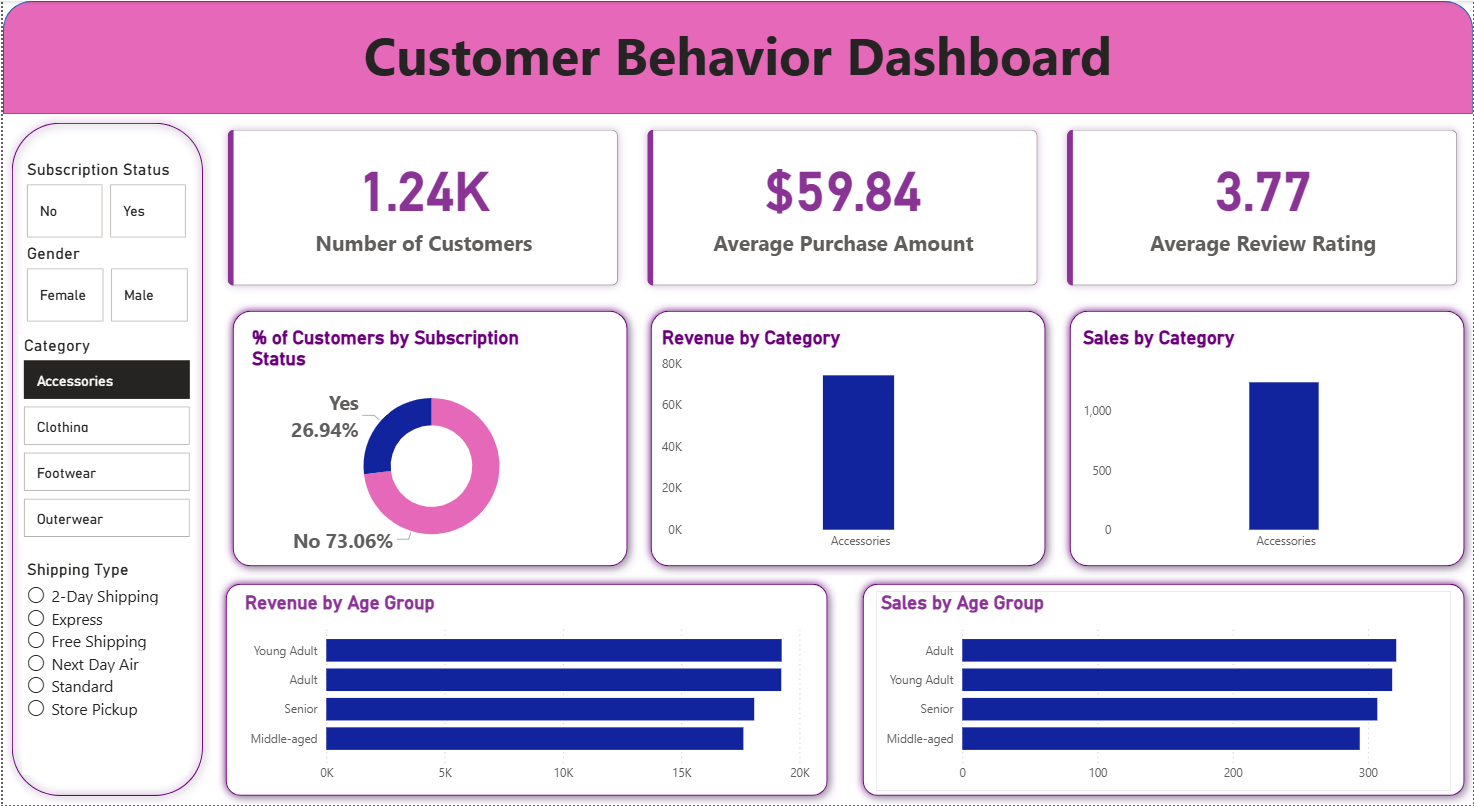

This screenshot's page, from the dashboard's own definition file:
{"tool":"powerbi","page":{"name":"Page 1","canvas":[1500,820],"ordinal":0},"visuals":[{"type":"cardVisual","fields":{"Data":["public customer.Number of Customers","public customer.Average Purchase Amount","public customer.Average Review Rating"]},"box":[212.9,115.3,1286.5,191.6],"z":2000},{"type":"shape","box":[218.3,585.6,631.7,234.2],"z":2500,"group":"g1"},{"type":"shape","box":[0,0,1499.4,115.3],"z":3000},{"type":"textbox","box":[0,12.4,1499.4,102.9],"z":4000},{"type":"shape","box":[225.4,307,420.5,278.6],"z":5000},{"type":"donutChart","title":"% of Customers by Subscription Status","fields":{"Category":["public customer.subscription_status"],"Y":["CountNonNull(public customer.customer_id)"]},"box":[248.4,331.8,376.2,237.8],"z":6000},{"type":"shape","box":[1078.9,307,420.5,278.6],"z":7000},{"type":"shape","box":[652.1,307,420.5,278.6],"z":8000},{"type":"clusteredColumnChart","title":"Revenue by Category","fields":{"Y":["Sum(public customer.purchase_amount)"],"Category":["public customer.category"]},"box":[667.2,331.8,385.1,237.8],"z":9000},{"type":"clusteredColumnChart","title":"Sales by Category","fields":{"Y":["CountNonNull(public customer.customer_id)"],"Category":["public customer.category"]},"box":[1096.6,331.8,385.1,237.8],"z":10000},{"type":"shape","box":[0,115.3,212.9,704.5],"z":11000},{"type":"advancedSlicerVisual","fields":{"Values":["public customer.subscription_status"]},"box":[19.5,161.5,173.9,85.2],"z":12000},{"type":"advancedSlicerVisual","fields":{"Values":["public customer.gender"]},"box":[19.4,246.8,174.4,85.7],"z":13000},{"type":"advancedSlicerVisual","fields":{"Values":["public customer.category"]},"box":[16.3,340.6,179.5,211.1],"z":14000},{"type":"listSlicer","fields":{"Values":["public customer.shipping_type"]},"box":[19.5,569.6,168.6,220],"z":15000},{"type":"shape","box":[867.7,585.6,631.7,234.2],"z":16000},{"type":"clusteredBarChart","title":"Sales by Age Group","fields":{"Y":["CountNonNull(public customer.customer_id)"],"Category":["public customer.age_group"]},"box":[890.8,601.5,585.6,204.1],"z":17000},{"type":"clusteredBarChart","title":"Revenue by Age Group","fields":{"Y":["Sum(public customer.purchase_amount)"],"Category":["public customer.age_group"]},"box":[241.4,601.6,585.6,204.1],"z":17500,"group":"g1"},{"type":"group","id":"g1","title":"Group 1","box":[218.3,585.6,631.7,234.2],"z":17501}]}

Visuals, with their boxes in screenshot pixels (x1, y1, x2, y2), scaled from the page's 1500x820 canvas onto the 1474x806 screenshot:
cardVisual - public customer.Number of Customers x public customer.Average Purchase Amount: 209,113,1473,302
shape: 215,576,835,805
shape: 0,0,1473,113
textbox: 0,12,1473,113
shape: 221,302,635,576
"% of Customers by Subscription Status" donutChart: 244,326,614,560
shape: 1060,302,1473,576
shape: 641,302,1054,576
"Revenue by Category" clusteredColumnChart: 656,326,1034,560
"Sales by Category" clusteredColumnChart: 1078,326,1456,560
shape: 0,113,209,805
advancedSlicerVisual - public customer.subscription_status: 19,159,190,242
advancedSlicerVisual - public customer.gender: 19,243,190,327
advancedSlicerVisual - public customer.category: 16,335,192,542
listSlicer - public customer.shipping_type: 19,560,185,776
shape: 853,576,1473,805
"Sales by Age Group" clusteredBarChart: 875,591,1451,792
"Revenue by Age Group" clusteredBarChart: 237,591,813,792
"Group 1" group: 215,576,835,805
